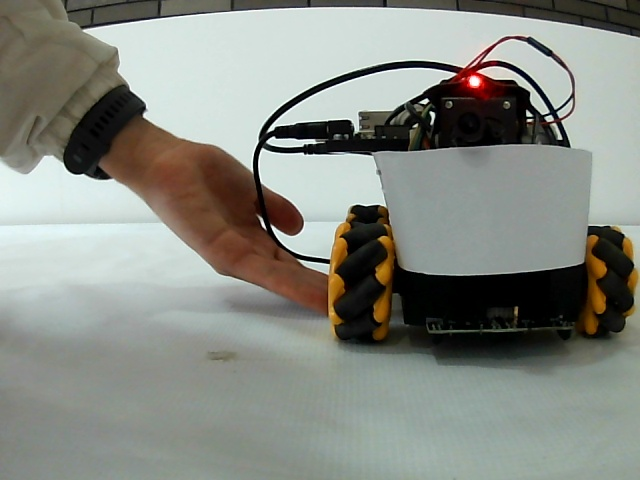car: (323, 69, 638, 344)
paper: (383, 153, 591, 266)
